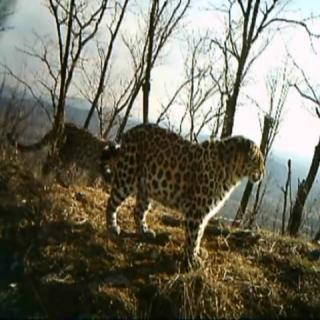Leopard: (112, 104, 288, 270), (12, 109, 114, 188)
